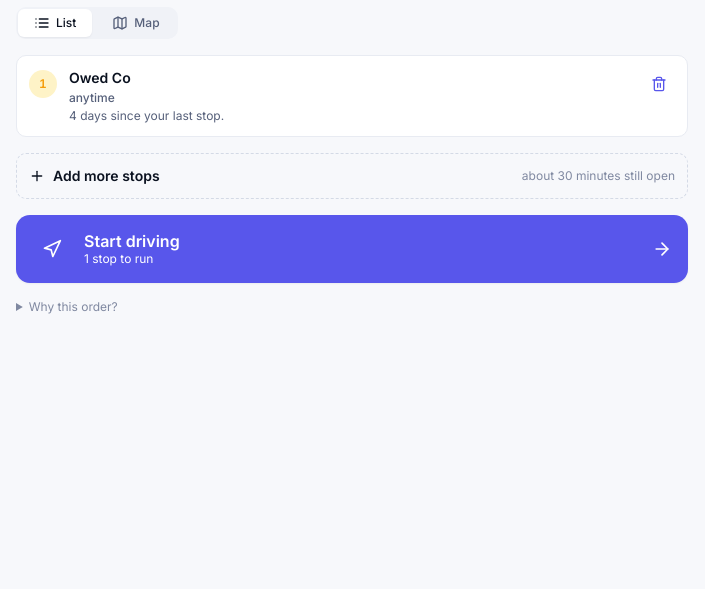
Test: TodaysPathView › one-tap 'Add more stops' (v2.2 B 4.4 fill to capacity) › disables the control once the depleted budget drops below a stop's minimum
Click the button "Add more stops about 30 minutes still open" at (106, 176), box [16,153,688,199]
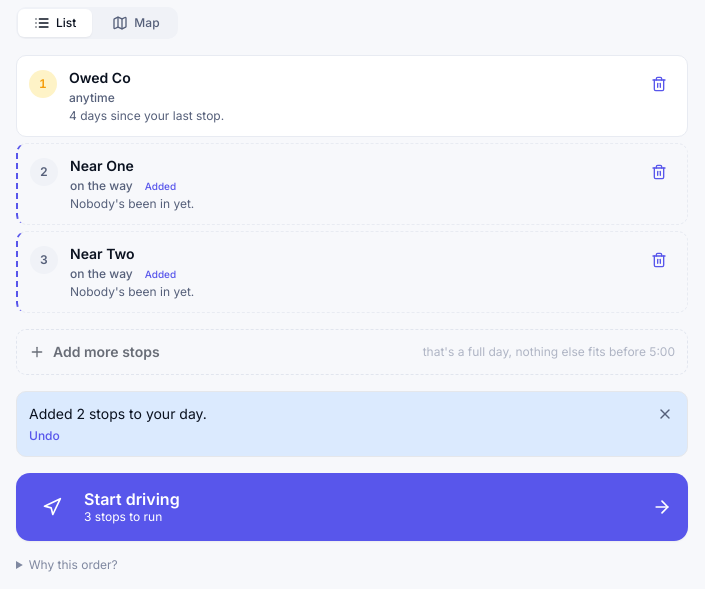
Result: the button "Add more stops" is disabled at [16,329,688,375]
Result: the text "Added 2 stops to your day." is shown at [29,405,207,422]
